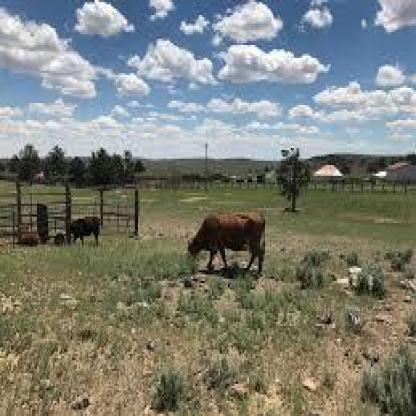cow: (186, 213, 267, 280), (67, 218, 102, 247)
